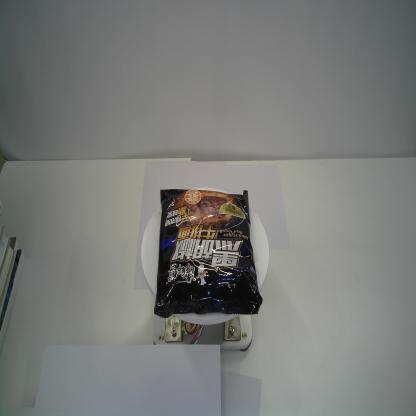Instant Noodles: (153, 188, 263, 318)
